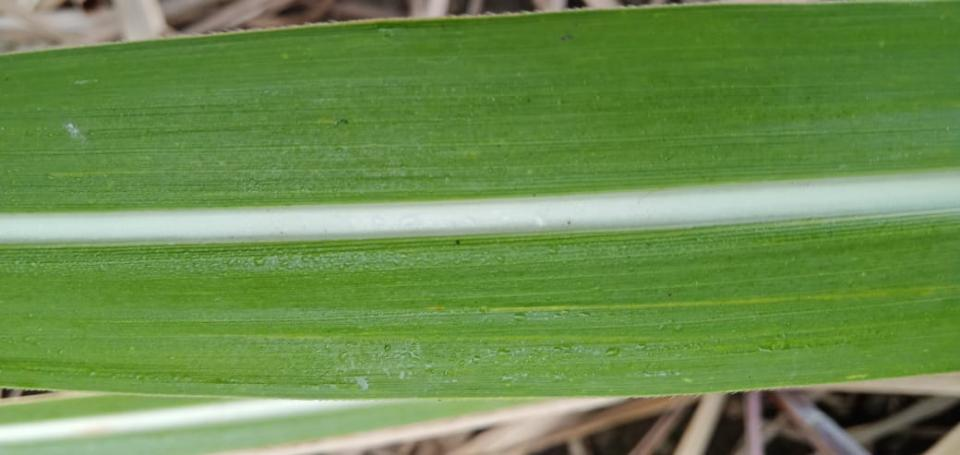Healthy: (0, 0, 959, 401)
